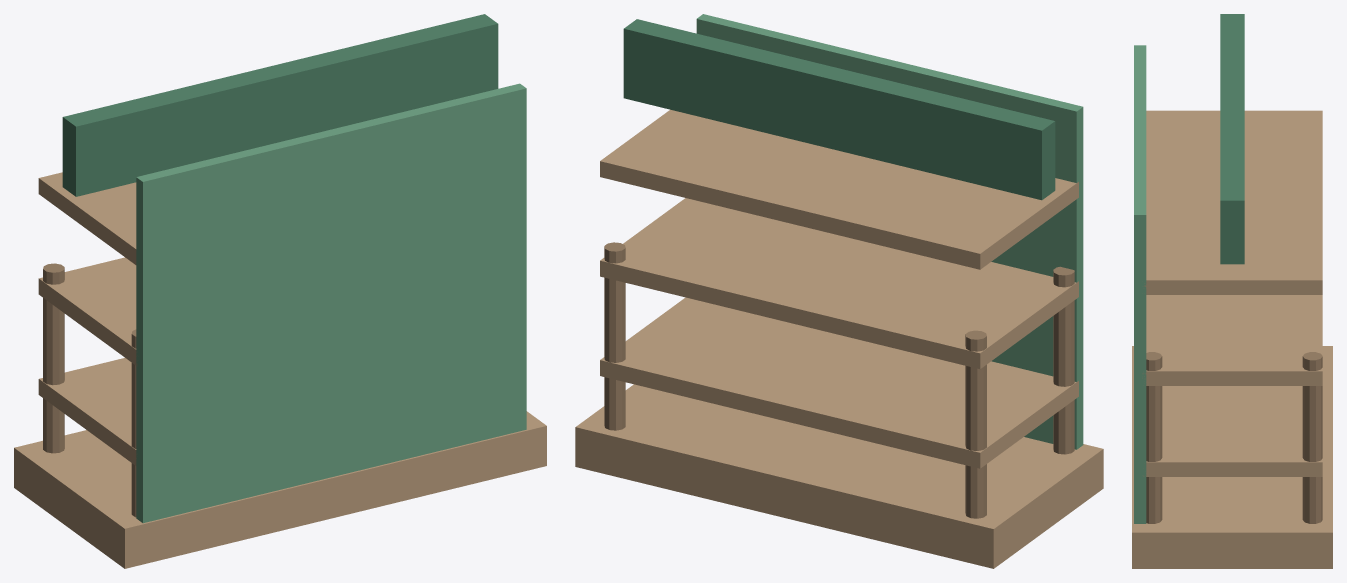
The model's file is display_stand.glb.
3 views of the same model, side by side, from view 1: azimuth 30°, elevation 25°; view 2: azimuth 150°, elevation 25°; view 3: azimuth 270°, elevation 25° (orthographic). The views are drawn at different scales.
Visible parts, largest first — view 1: back_panel, header, stand_base, shelf_2, shelf_1, shelf_3, leg_-0.95_0.4, leg_-0.95_-0.4; view 2: stand_base, shelf_2, shelf_1, header, shelf_3, back_panel, leg_-0.95_0.4, leg_0.95_0.4, leg_-0.95_-0.4; view 3: shelf_3, stand_base, shelf_2, shelf_1, header, back_panel, leg_0.95_0.4, leg_0.95_-0.4.
Part boxes in pixels (box(x1,y1,x2,y2)): back_panel: box(136, 83, 526, 523); header: box(62, 14, 498, 196); stand_base: box(14, 411, 546, 568); shelf_2: box(38, 257, 137, 365); shelf_1: box(38, 358, 136, 465); shelf_3: box(38, 172, 136, 264); leg_-0.95_0.4: box(43, 263, 64, 453); leg_-0.95_-0.4: box(131, 329, 136, 517); stand_base: box(575, 384, 1103, 568); shelf_2: box(600, 198, 1078, 368); shelf_1: box(600, 297, 1078, 468); header: box(623, 19, 1055, 200); shelf_3: box(600, 109, 1078, 269); back_panel: box(696, 14, 1083, 449); leg_-0.95_0.4: box(965, 330, 986, 518); leg_0.95_0.4: box(604, 242, 625, 430); leg_-0.95_-0.4: box(1053, 266, 1074, 454); shelf_3: box(1144, 110, 1322, 294); stand_base: box(1132, 346, 1332, 568); shelf_2: box(1142, 295, 1322, 385); shelf_1: box(1143, 386, 1322, 476); header: box(1220, 14, 1244, 264); back_panel: box(1134, 45, 1146, 523); leg_0.95_0.4: box(1302, 352, 1322, 523); leg_0.95_-0.4: box(1146, 352, 1162, 523).
Size of the model in its own units: 2.2 by 2.03 by 1.
